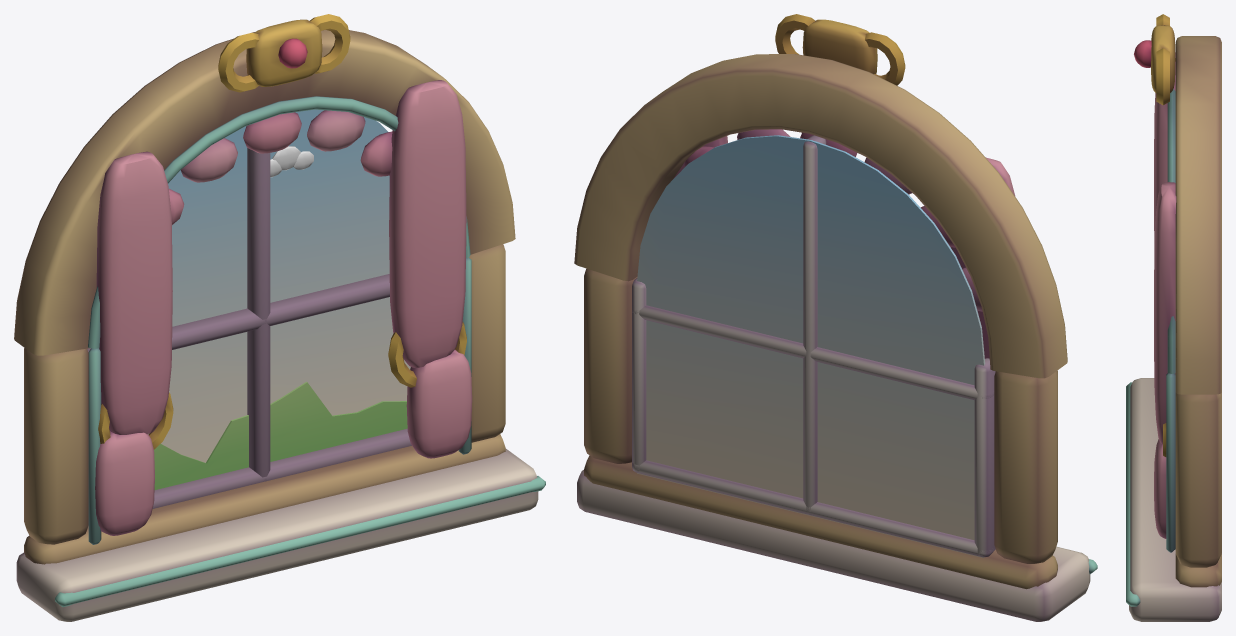
Rendered from window_patisserie.glb.
The picture shows the model from 3 angles, left to right: view 1: azimuth 30°, elevation 25°; view 2: azimuth 150°, elevation 25°; view 3: azimuth 270°, elevation 25°; orthographic projection. The views are drawn at different scales.
Visible parts, largest first — view 1: window_patisserie, window_patisserie_glass; view 2: window_patisserie, window_patisserie_glass; view 3: window_patisserie.
Part boxes in pixels (box(x1,y1,x2,y2)): window_patisserie: box(14, 14, 545, 621); window_patisserie_glass: box(148, 109, 410, 489); window_patisserie: box(574, 14, 1097, 621); window_patisserie_glass: box(637, 135, 985, 558); window_patisserie: box(1126, 14, 1221, 621).
Bounding box in the file's own units: 1.66 × 1.73 × 0.3101.
